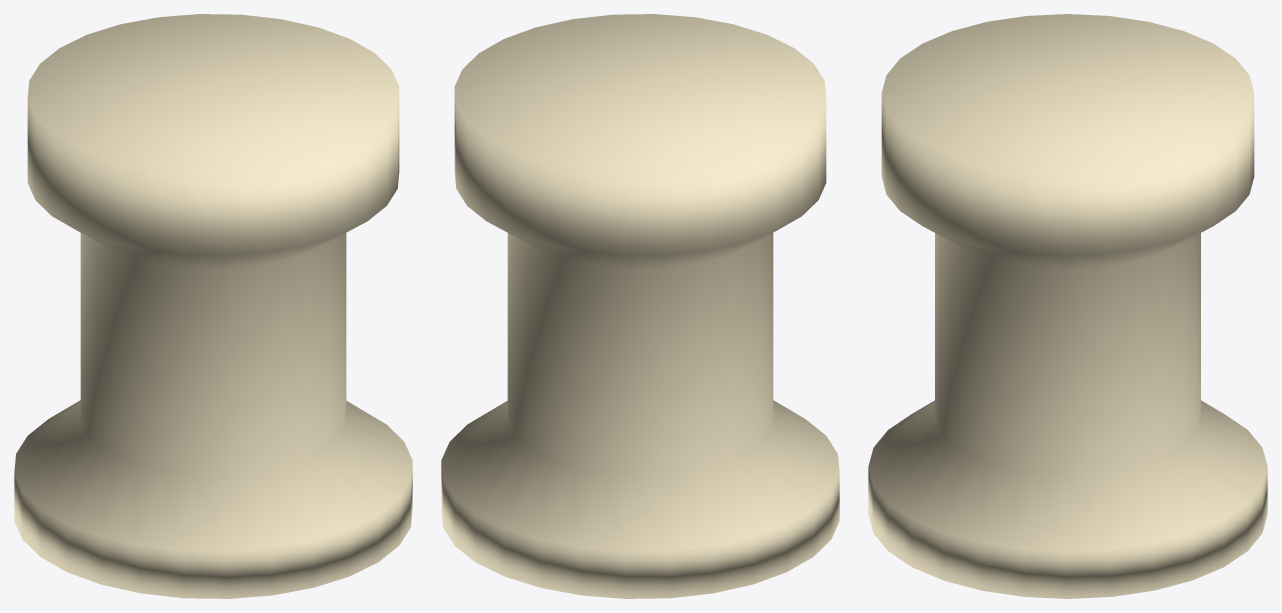
File: w-rook.glb
3 views of the same model, side by side, from view 1: azimuth 30°, elevation 25°; view 2: azimuth 150°, elevation 25°; view 3: azimuth 270°, elevation 25° (orthographic).
Parts seen in each view (by area): view 1: w-rook; view 2: w-rook; view 3: w-rook.
Boxes of the visible parts, box(x1,y1,x2,y2) form: w-rook: box(14, 14, 412, 598); w-rook: box(441, 14, 839, 598); w-rook: box(868, 14, 1267, 598).
Bounding box in the file's own units: 0.6 × 0.7 × 0.6.
